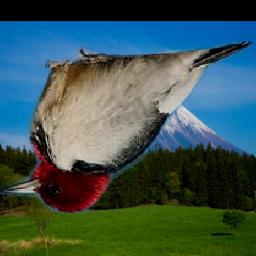Woodpecker: (0, 42, 254, 214)
